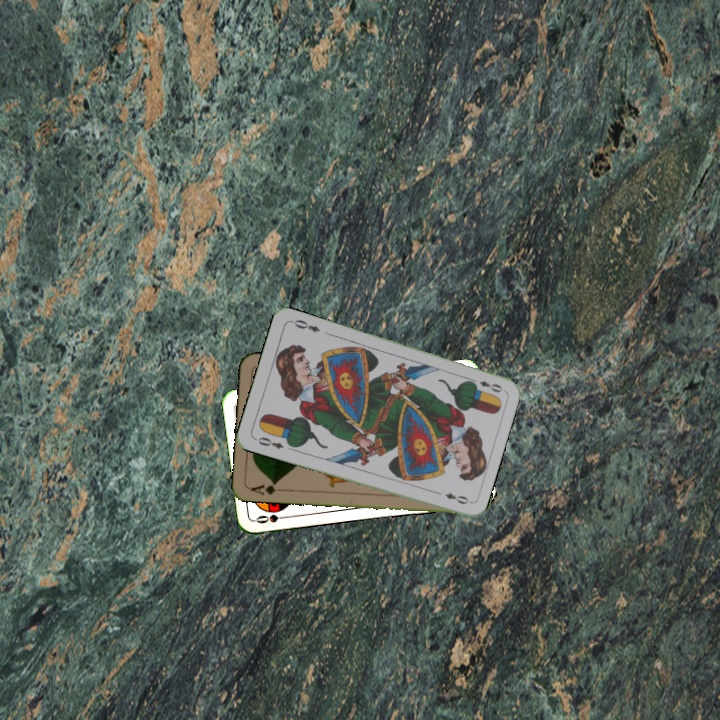EO: (466, 374, 505, 395), (251, 433, 286, 452)
GA: (247, 478, 287, 497)
SO: (252, 510, 293, 526)
